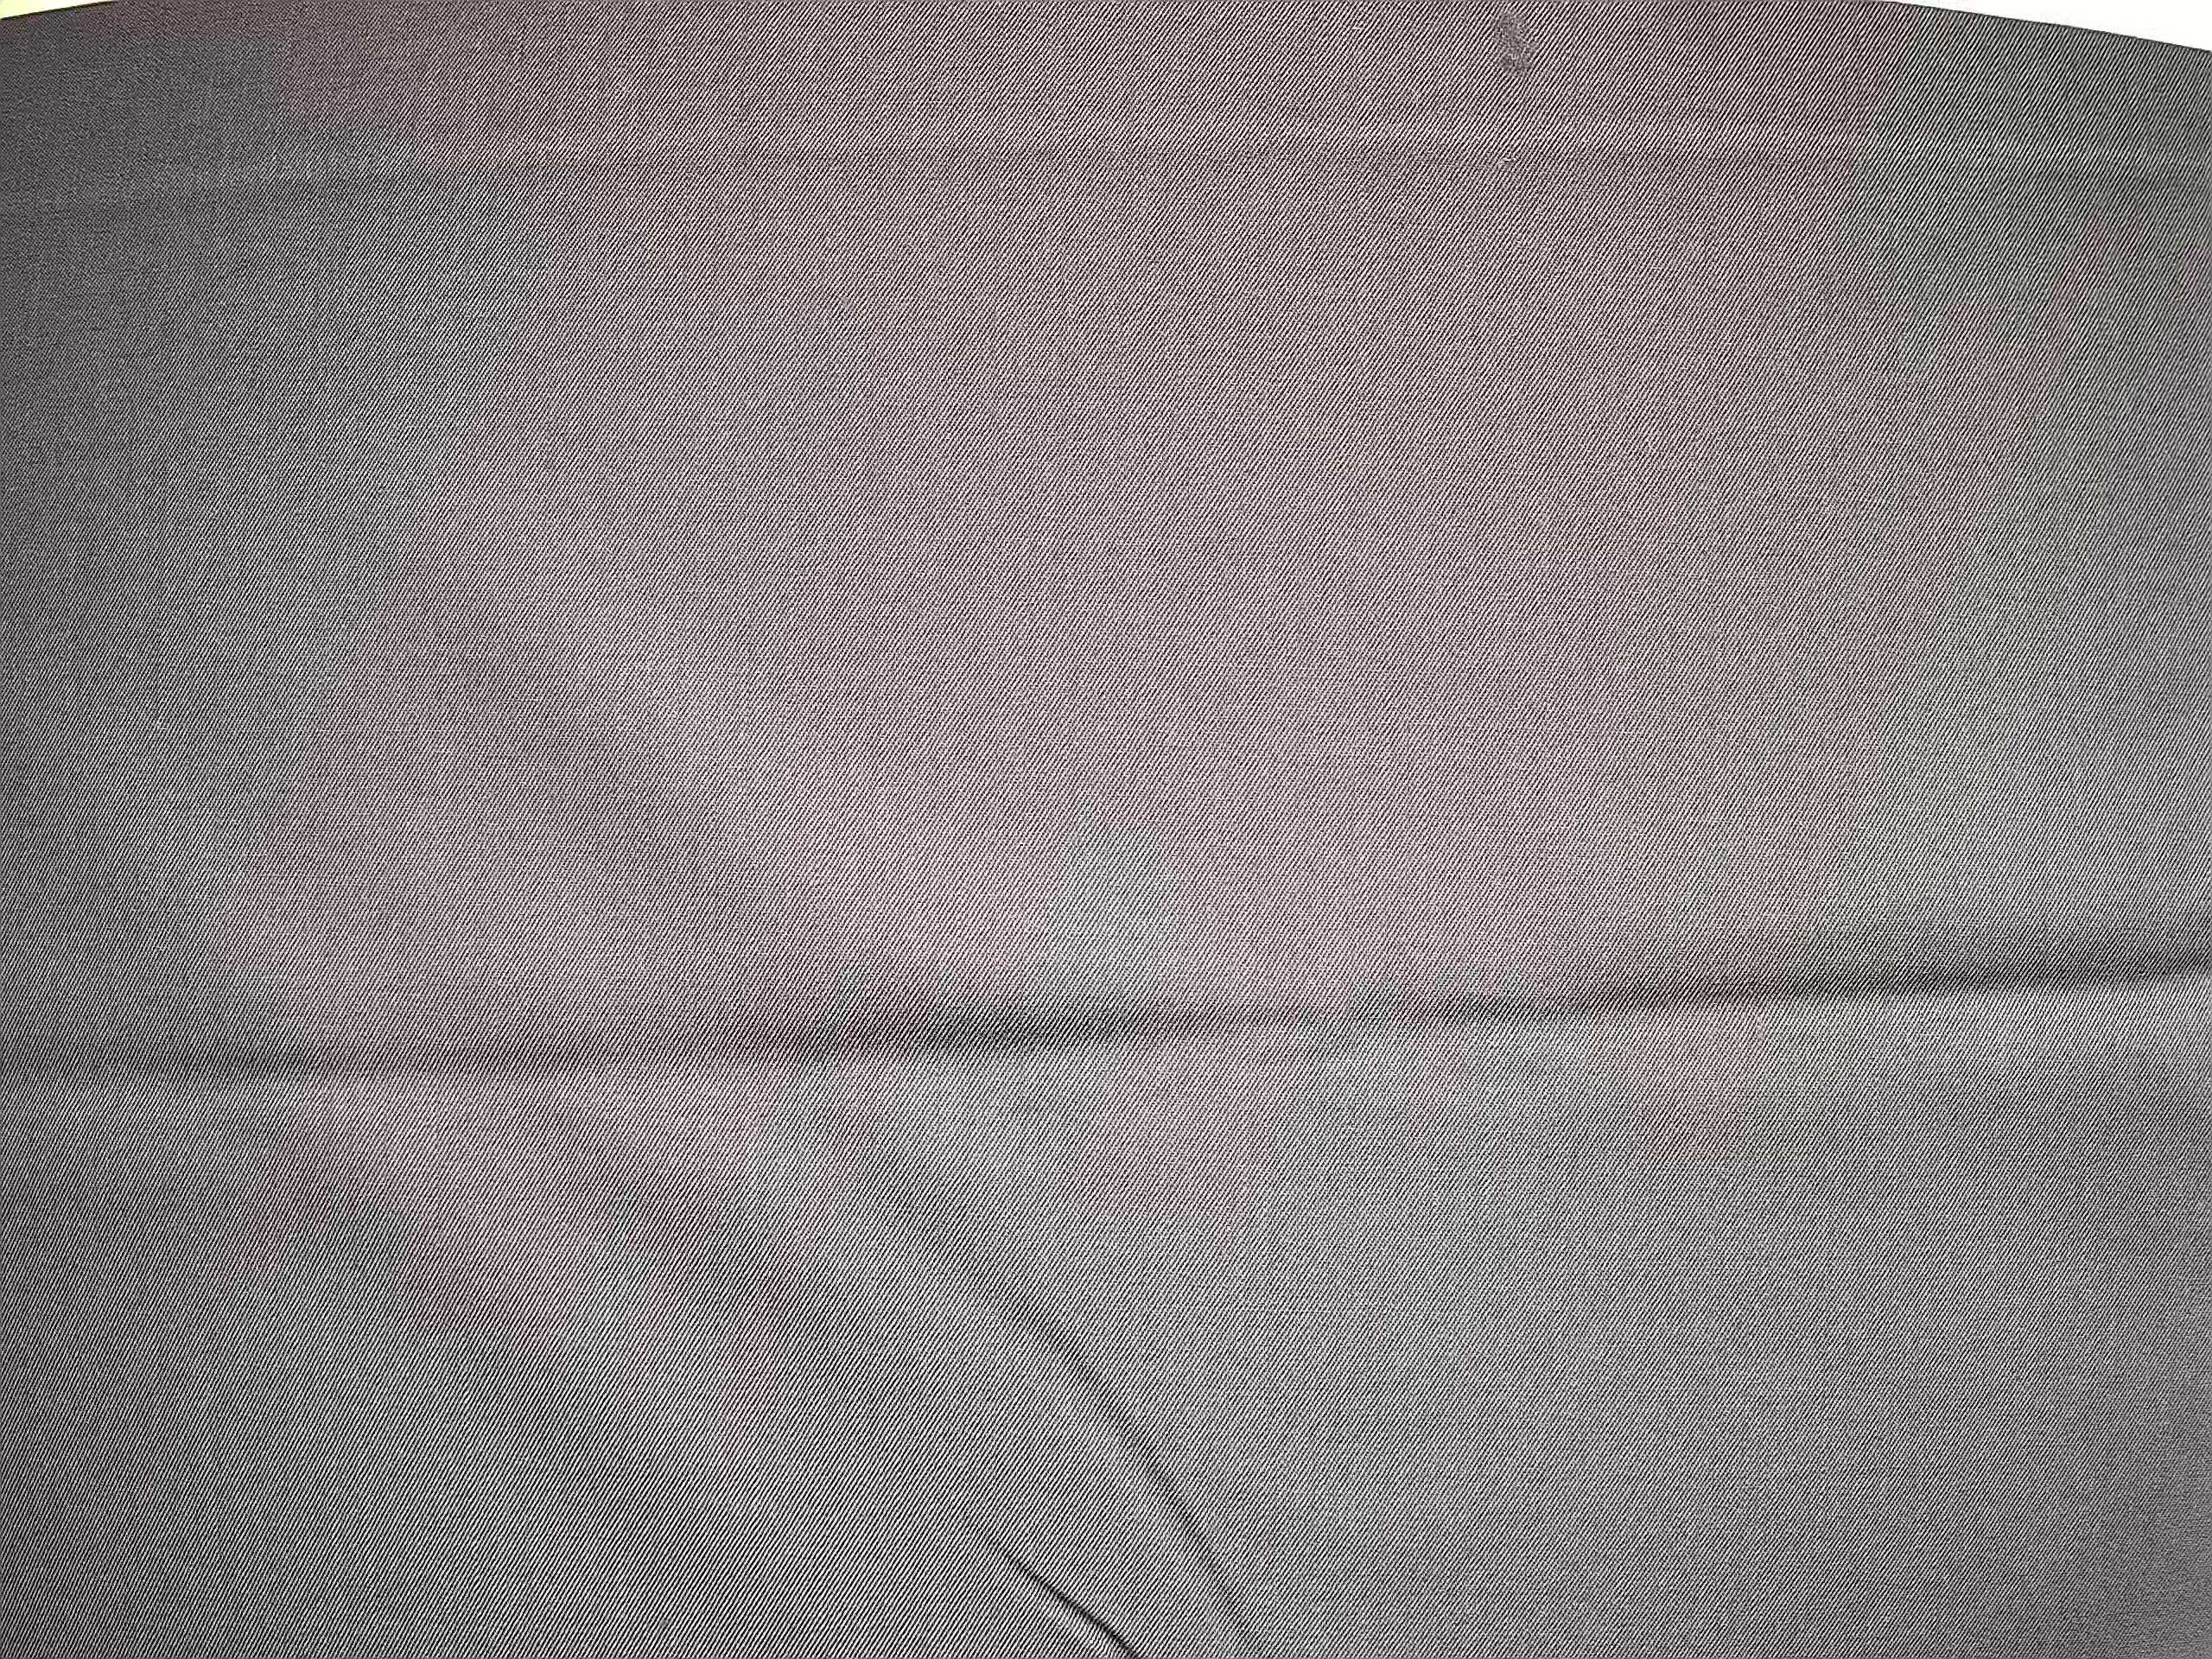knots: (1472, 3, 1562, 92)
